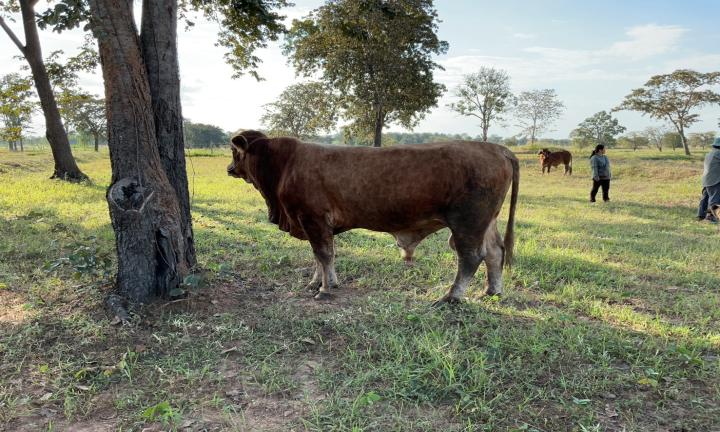Charolais: (227, 131, 519, 304)
